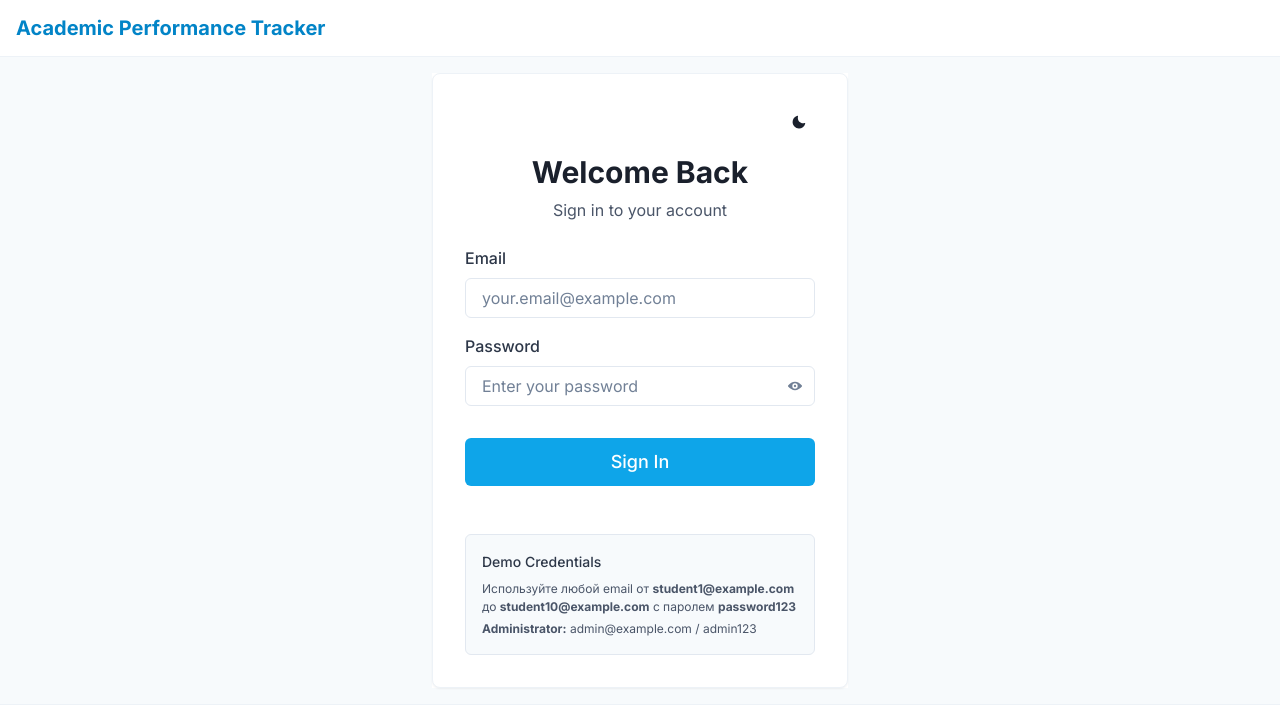
Test case: Authentication › should show validation errors for empty fields
Click the button with test id "login-button": (640, 462) [465,438,815,486]
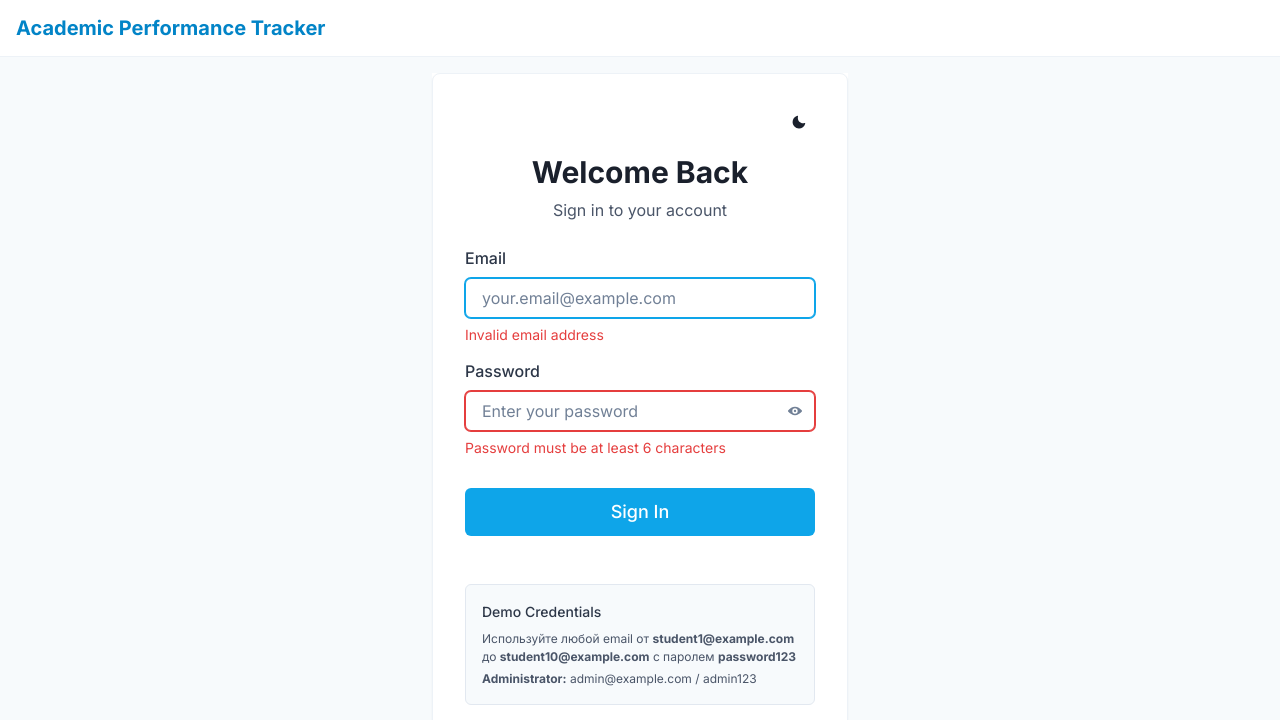
expect the text "Invalid email address" is shown: met, box [465,326,604,343]
expect the text "Password must be at least 6 characters" is shown: met, box [465,439,726,456]
